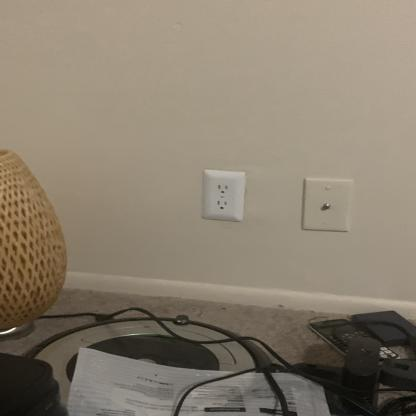OUTLET: (204, 169, 243, 219)
